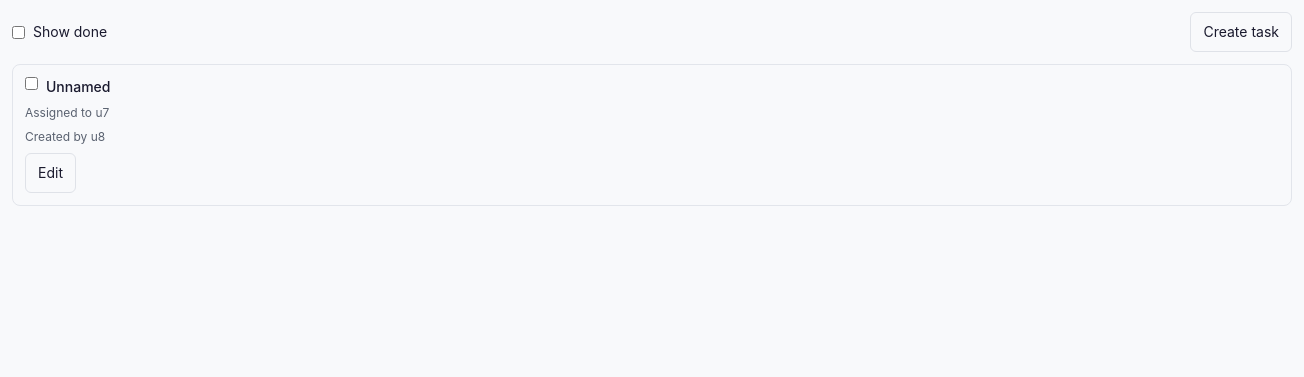
Test: names task people by display name and falls back to the user id
Expected: the text "Assigned to u7" is shown, [25,105,109,120]
Click the checkbox labelled "Show done".
click(18, 32)  # box [12,26,25,38]
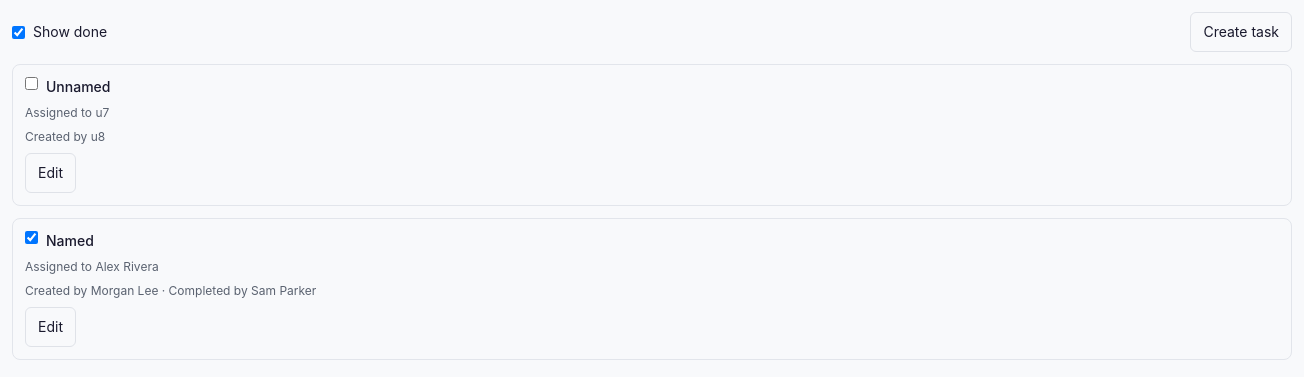
Expected: the text "Assigned to u7" is shown, [25,105,109,120]
Now the text "Assigned to Alex Rivera" is shown, box [25,259,159,274]
Now the text "Created by Morgan Lee · Completed by Sam Parker" is shown, box [25,283,316,298]
